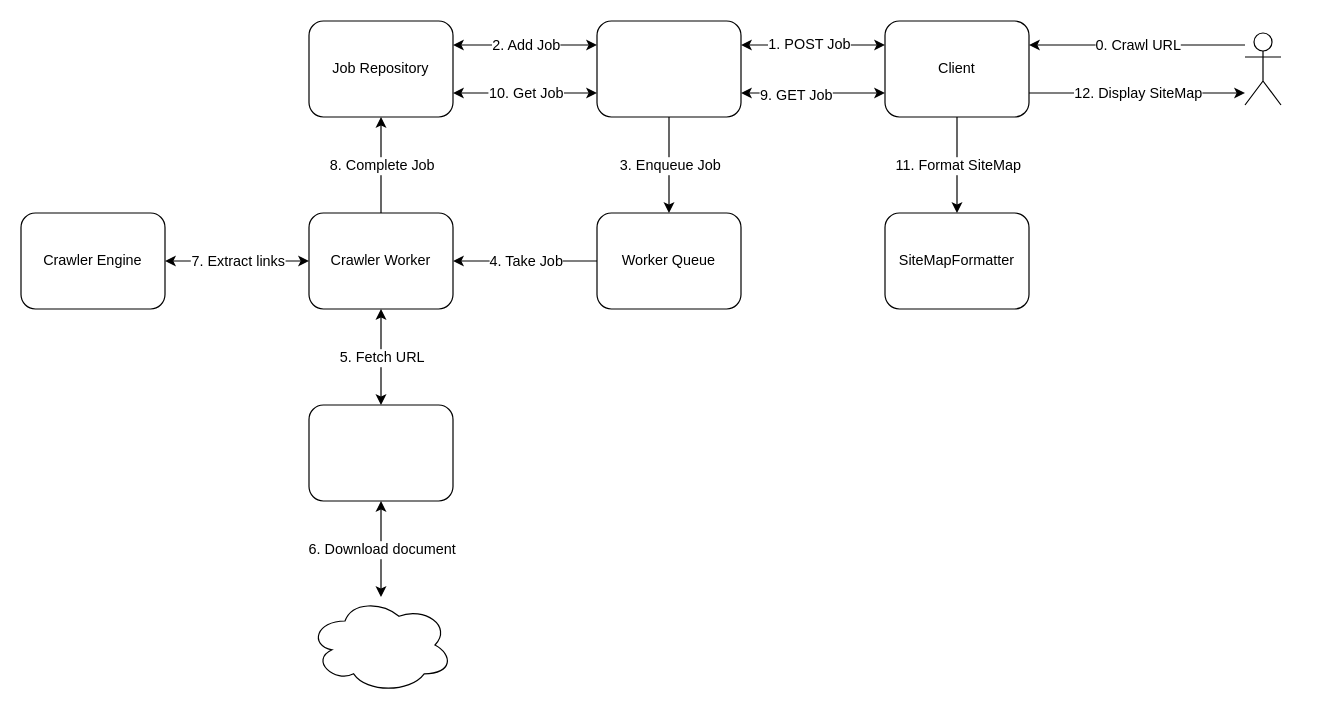
Some shapes in this 1318 by 714 pixel diagram are drawn without their labels. Each missing label, with the centre of its shape:
Client user: the point at 1262,68
Document Fetcher: the point at 380,452
Server: the point at 668,68
